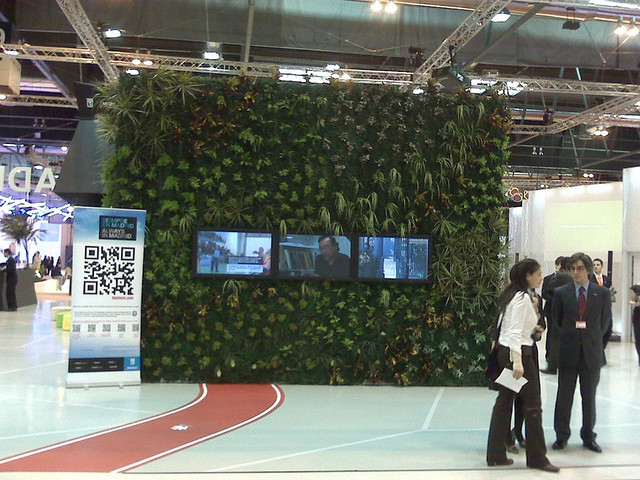QR-CODE: (83, 246, 134, 294), (103, 324, 110, 331), (118, 324, 125, 331), (133, 324, 139, 331), (74, 325, 80, 331), (89, 325, 95, 331)
